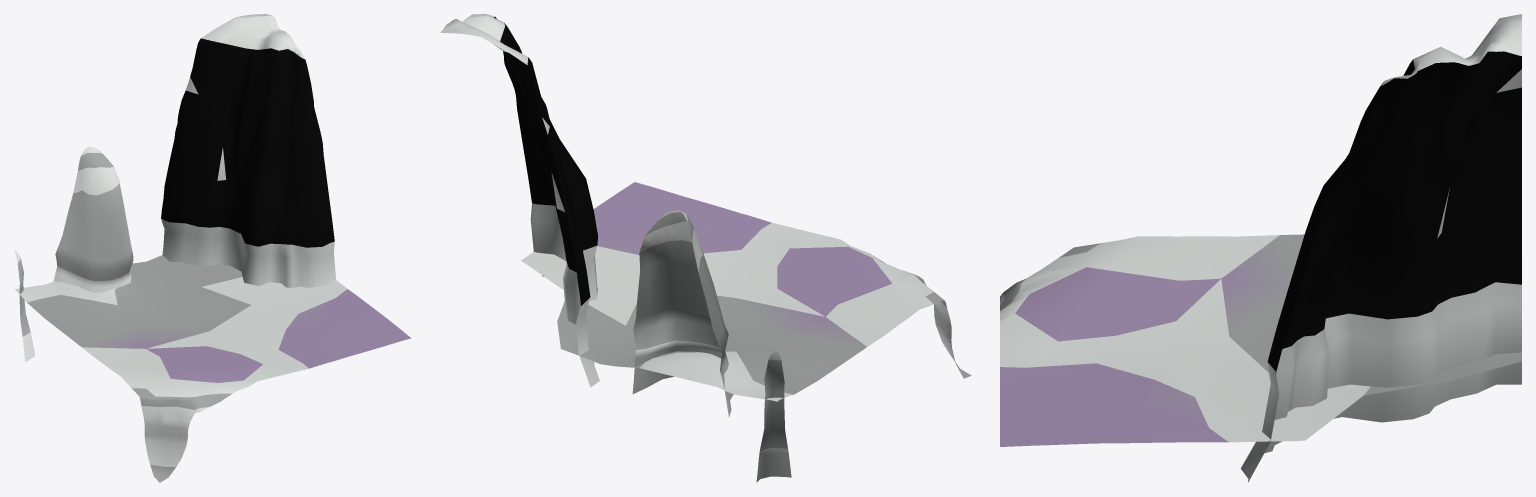
3 views of the same model, side by side, from view 1: azimuth 30°, elevation 25°; view 2: azimuth 150°, elevation 25°; view 3: azimuth 270°, elevation 25° (orthographic). The views are drawn at different scales.
Visible parts, largest first — view 1: G:\FFXIV-MapTools\exports\m5f1\bg\ex4\02_mid_m5\fld\m5f1\bgp (×12); view 2: G:\FFXIV-MapTools\exports\m5f1\bg\ex4\02_mid_m5\fld\m5f1\bgp (×9); view 3: G:\FFXIV-MapTools\exports\m5f1\bg\ex4\02_mid_m5\fld\m5f1\bgp (×6).
Boxes of the visible parts, <box> form: G:\FFXIV-MapTools\exports\m5f1\bg\ex4\02_mid_m5\fld\m5f1\bgp (×12): <box>14,14,410,467</box>; G:\FFXIV-MapTools\exports\m5f1\bg\ex4\02_mid_m5\fld\m5f1\bgp (×9): <box>440,14,933,482</box>; G:\FFXIV-MapTools\exports\m5f1\bg\ex4\02_mid_m5\fld\m5f1\bgp (×6): <box>1000,14,1521,482</box>.
Bounding box in the file's own units: 128 × 149 × 128.
